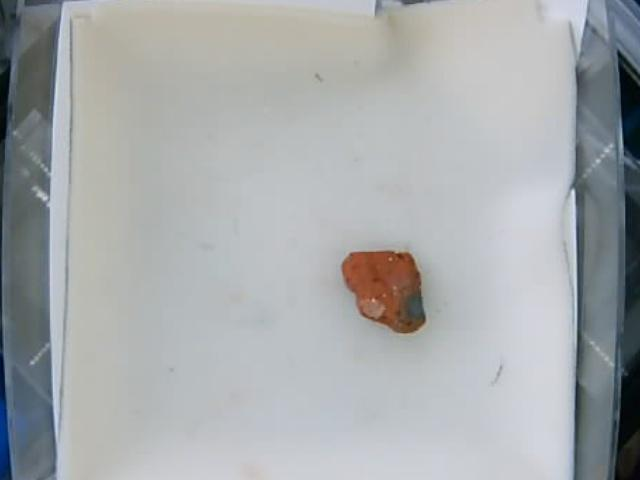Brisk: (339, 251, 428, 334)
